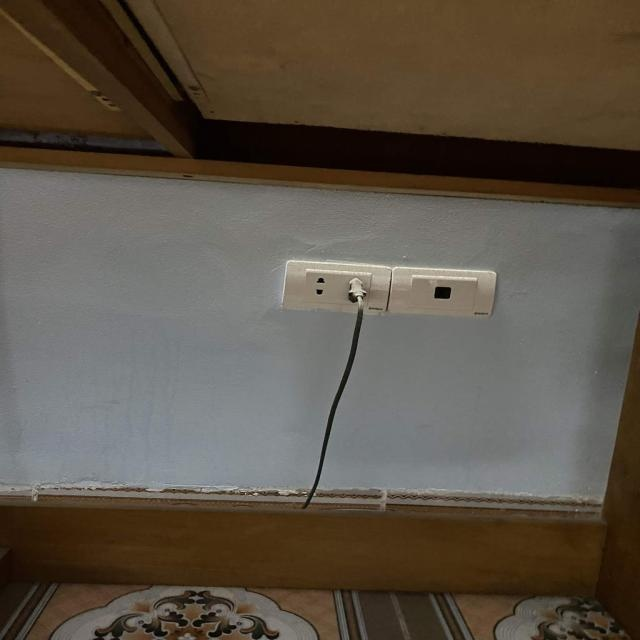outlet: (281, 260, 391, 314), (387, 266, 497, 317)
